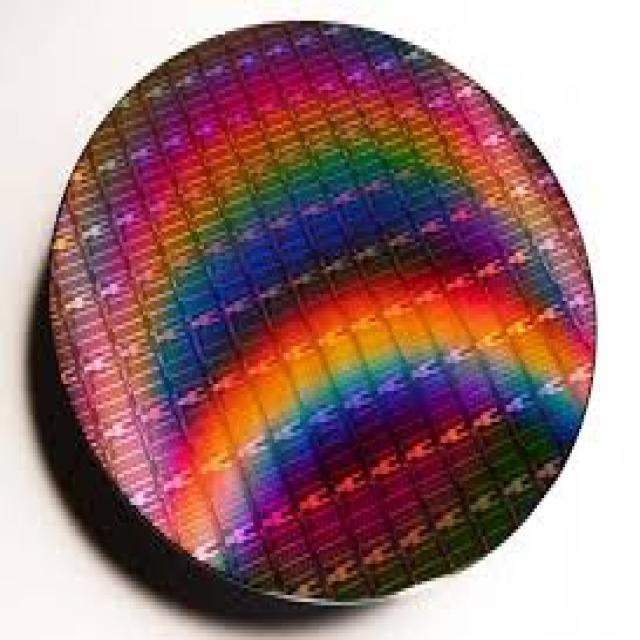Wafer: (26, 21, 598, 623)
